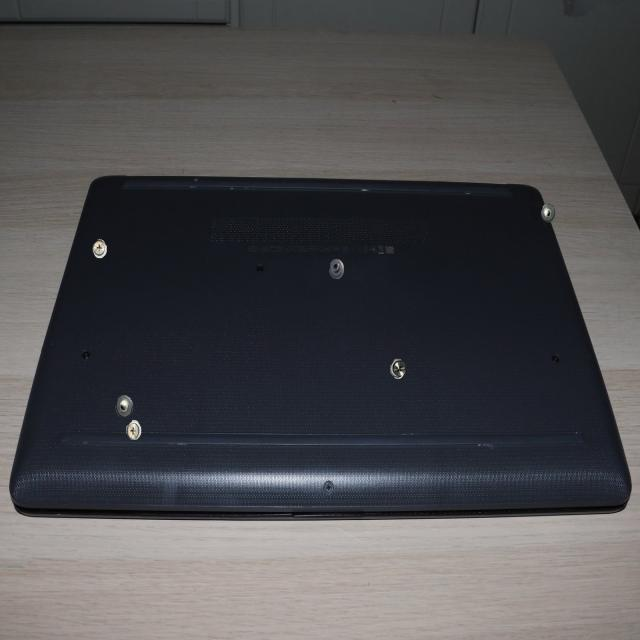lock: (390, 358, 405, 379), (126, 420, 141, 440), (92, 239, 107, 258)
missing_screw: (115, 395, 133, 418), (329, 259, 344, 279), (541, 203, 555, 222)
